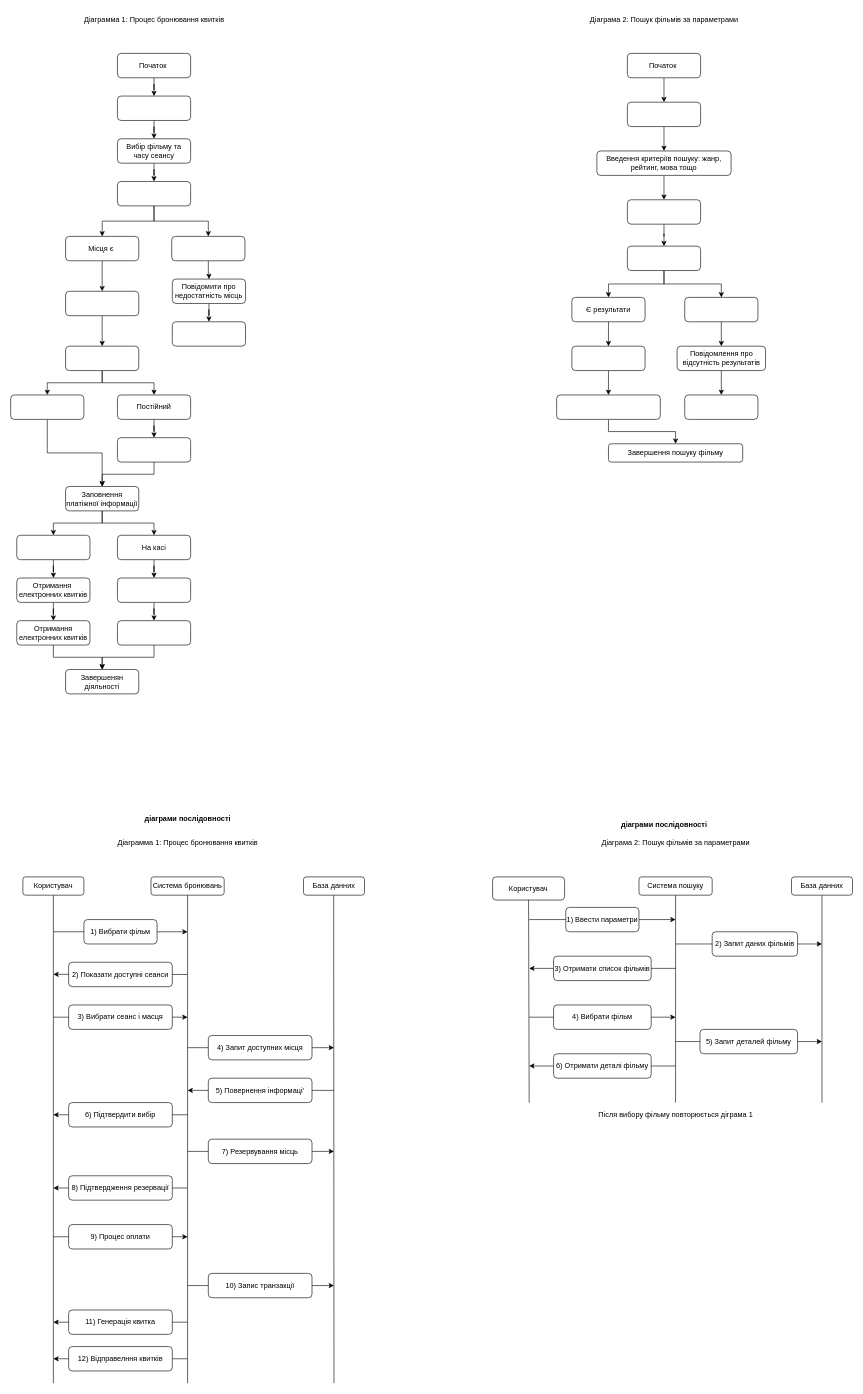
Image size: 863x1394. Some labels were removed from this diagram. The shapes that lost their labels are listed below. From the top down, each one's box as (x1, y1, x2, y2) in pixels, then its label:
(117, 95, 191, 120): Вхід в систему
(627, 102, 701, 127): Вхід в систему пошуку фільмів
(117, 181, 191, 206): Перевеірка наявності місцт
(627, 199, 701, 224): Запуск пошуку
(171, 236, 245, 261): Місць немає
(627, 246, 701, 271): Перевірка наявності результатів
(65, 291, 139, 316): Вибір місць
(684, 297, 758, 322): Немає результатів
(172, 321, 246, 346): Пошук іншого сенсу або фільму
(65, 346, 139, 371): Перевірка лояльності користувача
(571, 346, 645, 371): Вибір фільму зі списку
(10, 394, 84, 419): Новий
(556, 394, 660, 419): Відображення детальної інформації про фільм
(684, 394, 758, 419): Зміна критеріїв пошуку
(117, 437, 191, 462): Нарахування бонусів
(16, 535, 90, 560): Електронний
(117, 577, 191, 602): Дкух квитків
(117, 620, 191, 645): Забір квитків у кінотеатрі
